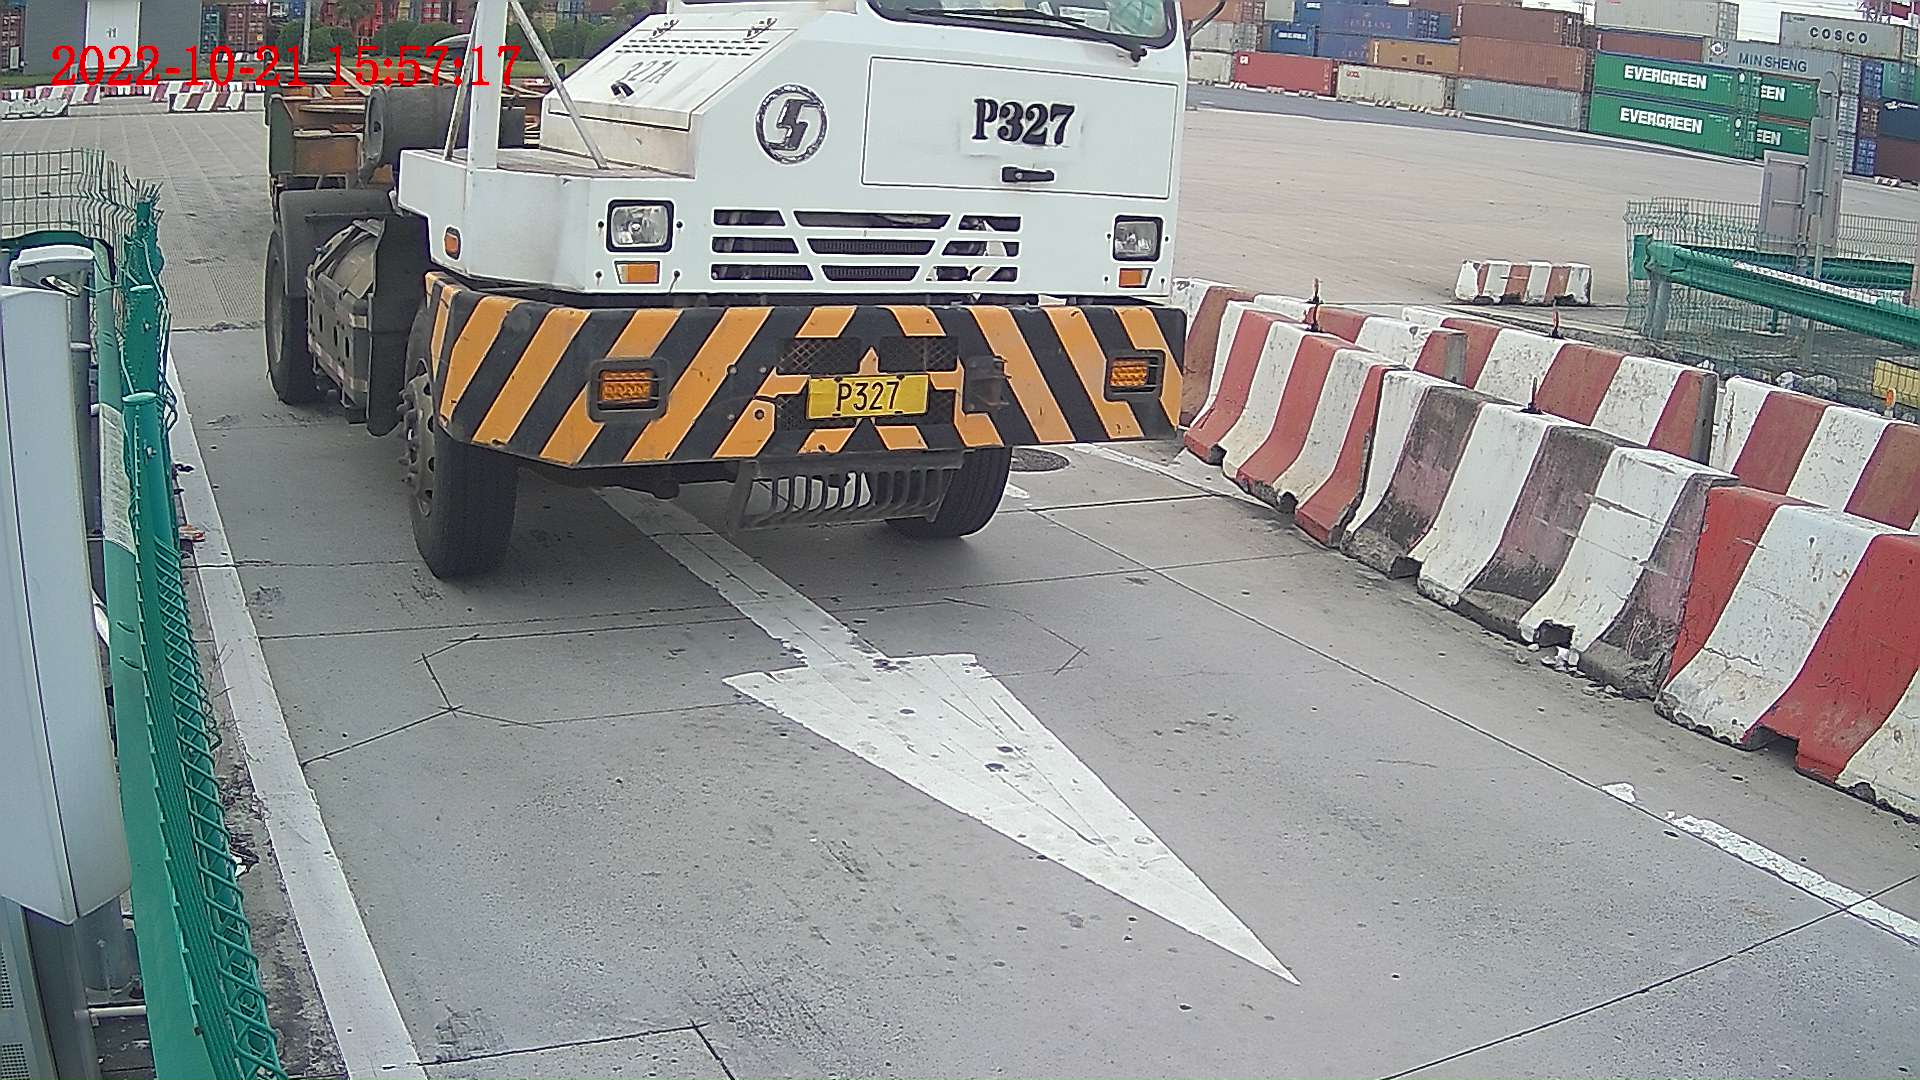head: (406, 9, 1188, 572)
plate: (808, 380, 931, 423)
